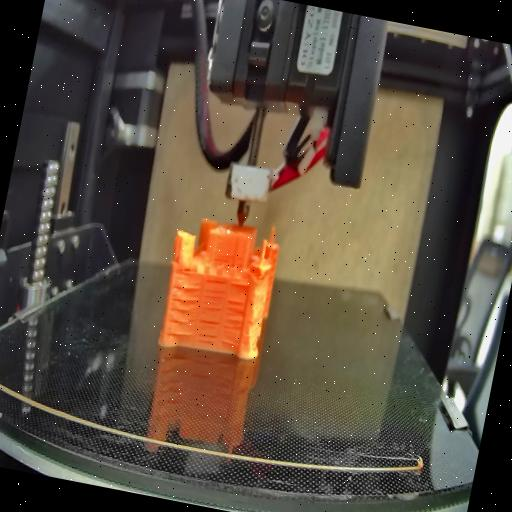cracks: (164, 282, 203, 340), (218, 296, 249, 348), (200, 274, 228, 314), (196, 318, 221, 344), (230, 280, 250, 294)
